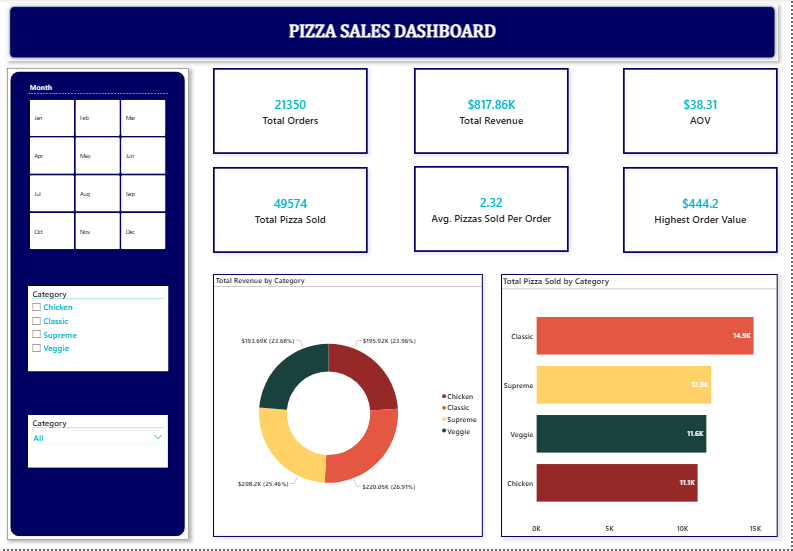

The dashboard page shown, as its layout file describes it:
{"tool":"powerbi","page":{"name":"Sales Overview","canvas":[2300,1600],"ordinal":0},"visuals":[{"type":"shape","box":[20,15,2242.5,165],"z":0},{"type":"shape","box":[20,200,527.5,1372.5],"z":1000},{"type":"cardVisual","fields":{"Data":["_Measures.Total Order"]},"box":[620,200,450,250],"z":2000},{"type":"cardVisual","fields":{"Data":["_Measures.Total Revenue"]},"box":[1204,200,450,250],"z":3000},{"type":"cardVisual","fields":{"Data":["_Measures.AOV"]},"box":[1813.3,200,450,250],"z":4000},{"type":"cardVisual","fields":{"Data":["_Measures.Total Pizza Sold"]},"box":[620,487.5,450,250],"z":5000},{"type":"cardVisual","fields":{"Data":["_Measures.Avg. Pizzas Per Order"]},"box":[1203.3,486.7,450,250],"z":6000},{"type":"cardVisual","fields":{"Data":["_Measures.Highest Order Value in a Single Order"]},"box":[1813.3,490,450,250],"z":7000},{"type":"advancedSlicerVisual","title":"Month","fields":{"Values":["Dim_Date.Month Name"]},"box":[82.5,242.5,407.5,495],"z":8000},{"type":"slicer","fields":{"Values":["Dimpizza_Details.Category"]},"box":[82.5,835,407.5,247.5],"z":9000},{"type":"slicer","fields":{"Values":["Dimpizza_Details.Pizza_Name"]},"box":[80,1210,406.7,153.3],"z":10000},{"type":"donutChart","fields":{"Y":["_Measures.Total Revenue"],"Series":["Dimpizza_Details.Category"]},"box":[620,800,785,765],"z":11000},{"type":"barChart","fields":{"Category":["Dimpizza_Details.Category"],"Y":["_Measures.Total Pizza Sold"]},"box":[1457.5,800,805,765],"z":12000}]}

Visuals, with their boxes in screenshot pixels (x1, y1, x2, y2), scaled from the page's 2300x1600 canvas onto the 793x551 screenshot:
shape: region(7, 5, 780, 62)
shape: region(7, 69, 189, 542)
cardVisual - _Measures.Total Order: region(214, 69, 369, 155)
cardVisual - _Measures.Total Revenue: region(415, 69, 570, 155)
cardVisual - _Measures.AOV: region(625, 69, 780, 155)
cardVisual - _Measures.Total Pizza Sold: region(214, 168, 369, 254)
cardVisual - _Measures.Avg. Pizzas Per Order: region(415, 168, 570, 254)
cardVisual - _Measures.Highest Order Value in a Single Order: region(625, 169, 780, 255)
"Month" advancedSlicerVisual: region(28, 84, 169, 254)
slicer - Dimpizza_Details.Category: region(28, 288, 169, 373)
slicer - Dimpizza_Details.Pizza_Name: region(28, 417, 168, 469)
donutChart - _Measures.Total Revenue x Dimpizza_Details.Category: region(214, 276, 484, 539)
barChart - Dimpizza_Details.Category x _Measures.Total Pizza Sold: region(503, 276, 780, 539)
